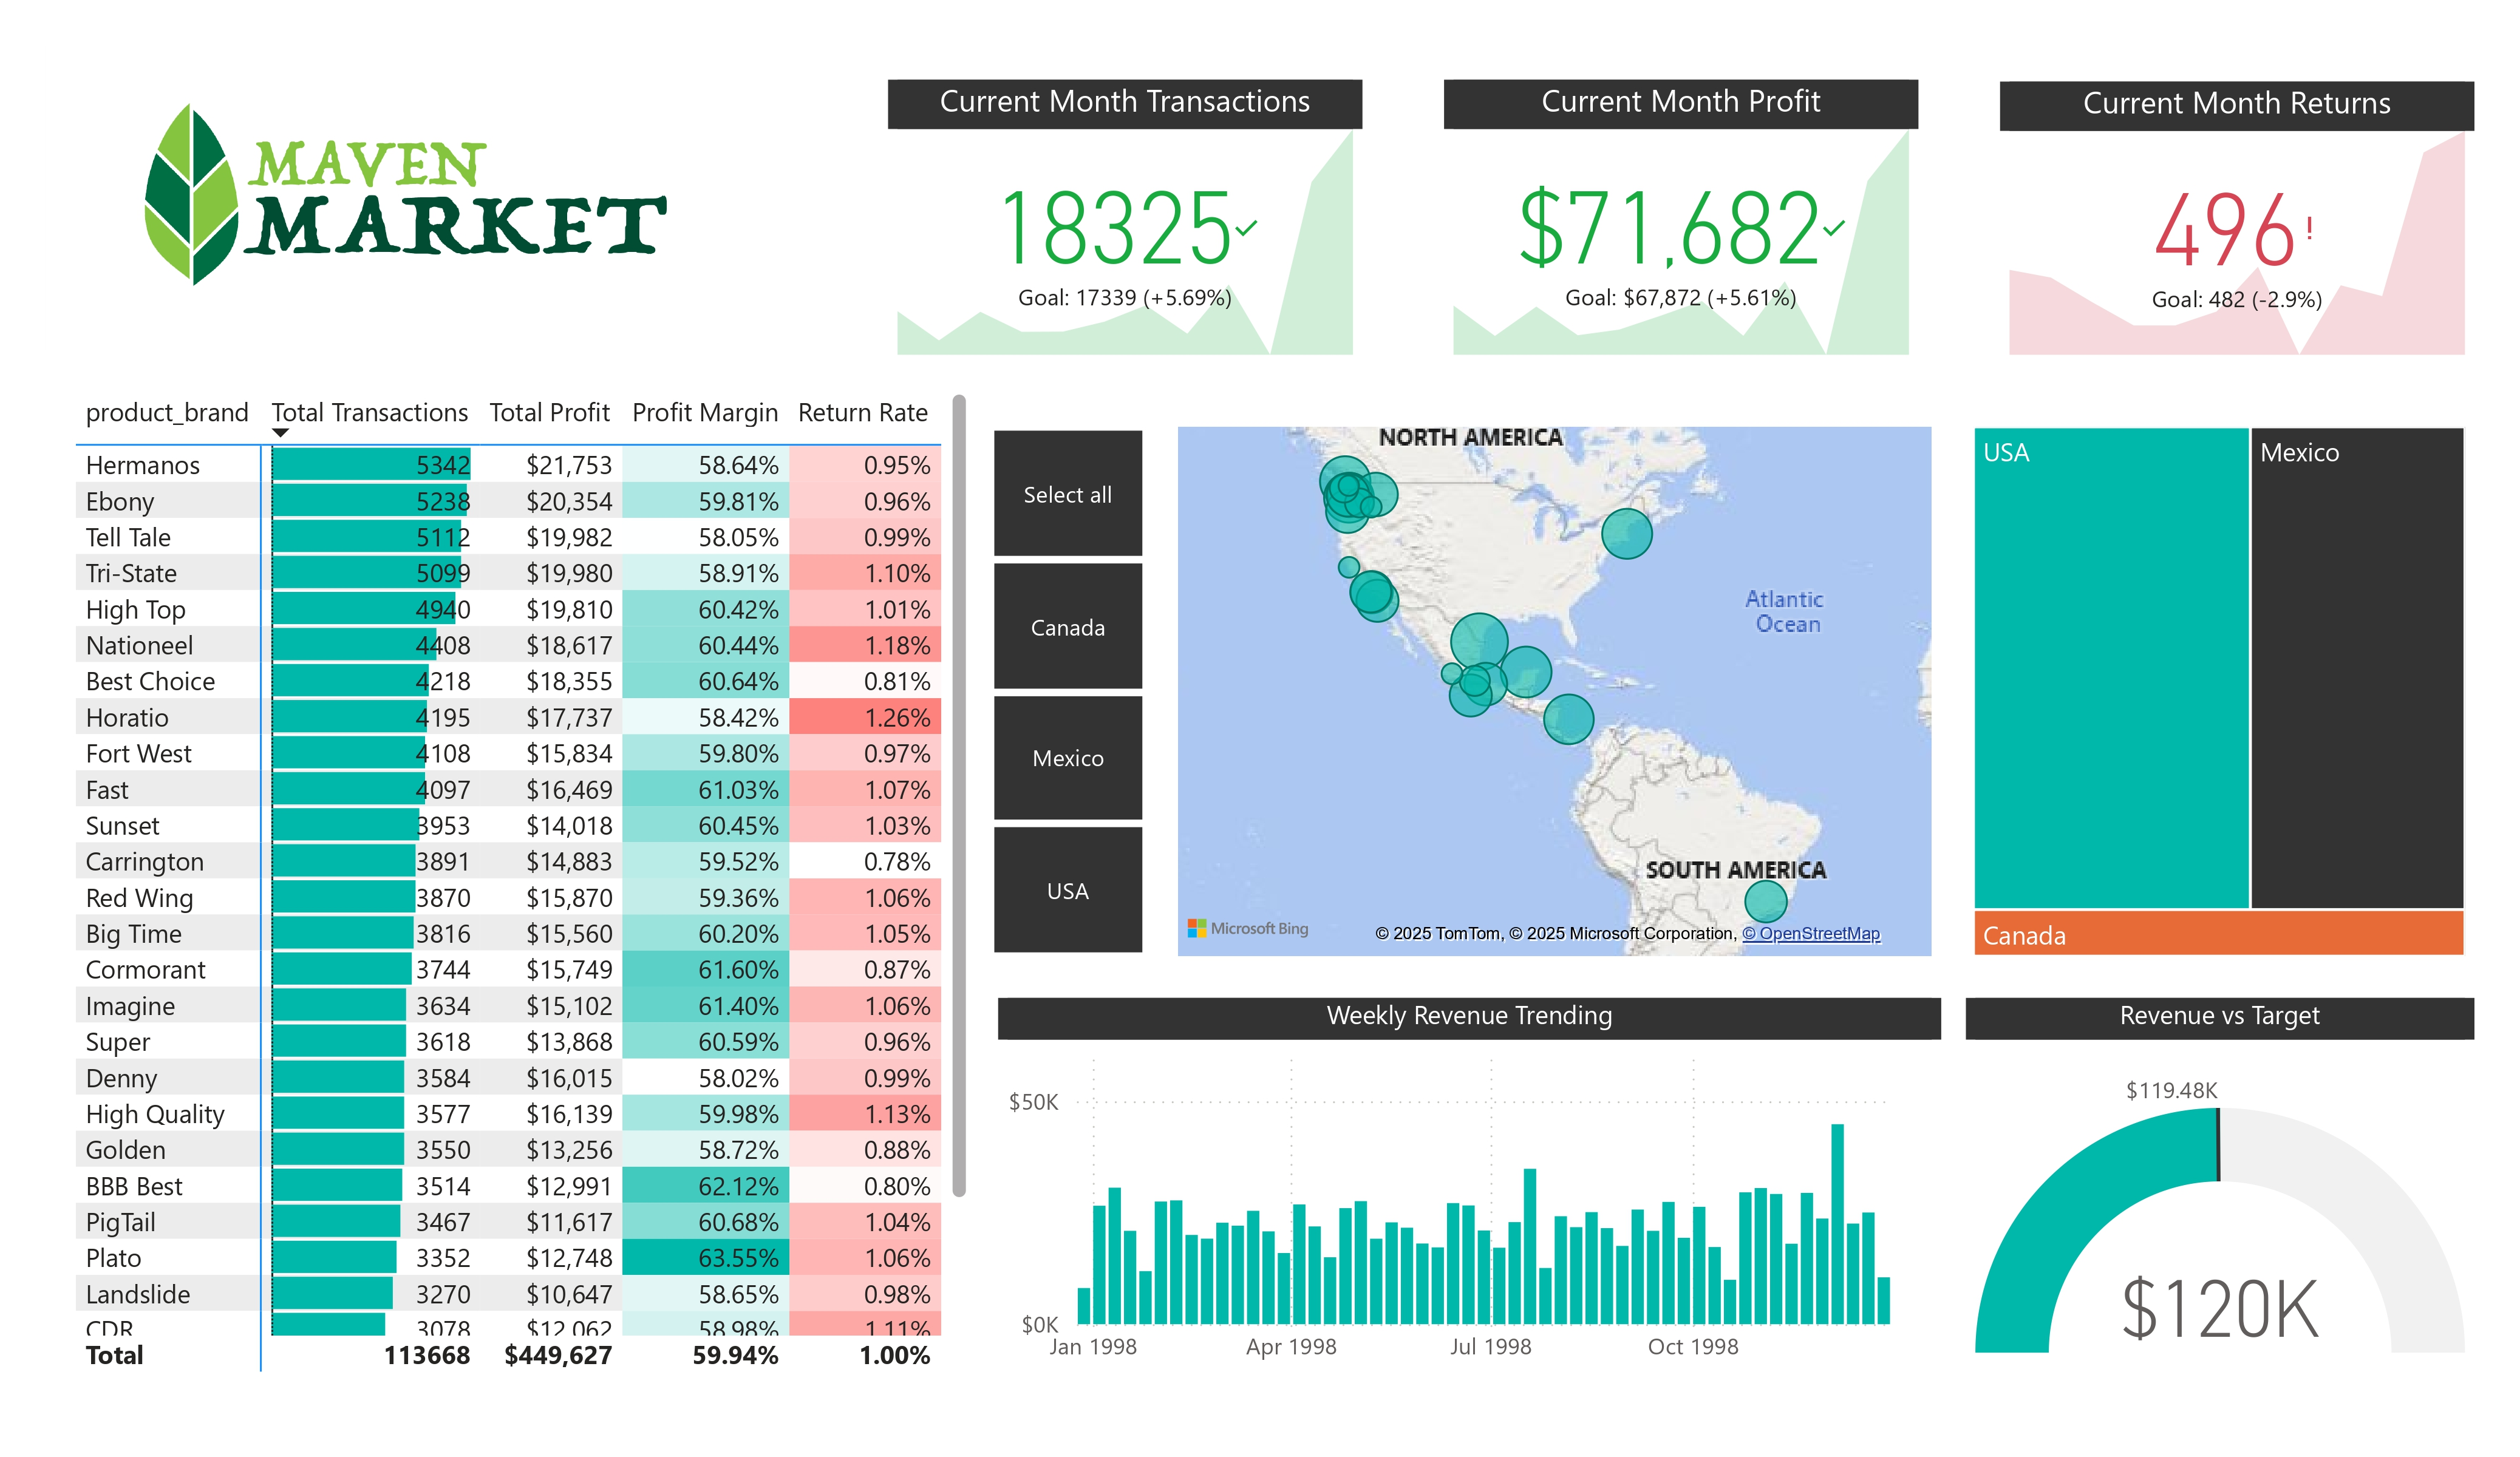

What the dashboard file says about the page in this screenshot:
{"tool":"powerbi","page":{"name":"Topline Performance","canvas":[1280,720],"ordinal":0},"visuals":[{"type":"image","box":[11.4,18.5,354.2,119.5],"z":0},{"type":"pivotTable","fields":{"Rows":["Products.product_brand"],"Values":["Measures Table.Total Transactions","Measures Table.Total Profit","Measures Table.Profit Margin","Measures Table.Return Rate"]},"box":[11.4,177.8,479.4,526.4],"z":1},{"type":"kpi","title":"Current Month Transactions","fields":{"Indicator":["Measures Table.Total Transactions"],"TrendLine":["Calendar.Start of Month"],"Goal":["Measures Table.Last Month Transactions"]},"box":[443.9,18.5,250.4,149.4],"z":2},{"type":"kpi","title":"Current Month Profit","fields":{"TrendLine":["Calendar.Start of Month"],"Indicator":["Measures Table.Total Profit"],"Goal":["Measures Table.Last Month Profit"]},"box":[737.1,18.5,250.4,149.4],"z":3},{"type":"kpi","title":"Current Month Returns","fields":{"TrendLine":["Calendar.Start of Month"],"Indicator":["Measures Table.Total Returns"],"Goal":["Measures Table.Last Month Returns"]},"box":[1029.8,19.2,250.2,148.7],"z":4},{"type":"map","fields":{"Category":["Stores.City"],"Size":["Measures Table.Total Transactions"]},"box":[591.8,196.3,406.9,288.8],"z":5},{"type":"slicer","fields":{"Values":["Stores.Country/Region"]},"box":[473.7,196.3,128,288.8],"z":6},{"type":"treemap","fields":{"Group":["Stores.Country/Region","Stores.State or Province","Stores.City"],"Values":["Measures Table.Total Transactions"]},"box":[1011.1,195.9,269.4,288.6],"z":7},{"type":"clusteredColumnChart","title":"Weekly Revenue Trending","fields":{"Y":["Measures Table.Total Revenue"],"Category":["Calendar.Start of Week"]},"box":[502.2,502.2,496.5,202],"z":8},{"type":"gauge","title":"Revenue vs Target","fields":{"Y":["Measures Table.Total Revenue"],"TargetValue":["Measures Table.Revenue Target"]},"box":[1012,502,268,202],"z":9}]}

Visuals, with their boxes in screenshot pixels (x1, y1, x2, y2):
image: 67, 81, 740, 307
pivotTable - Products.product_brand x Measures Table.Total Transactions: 67, 383, 977, 1382
"Current Month Transactions" kpi: 888, 81, 1363, 364
"Current Month Profit" kpi: 1444, 81, 1919, 364
"Current Month Returns" kpi: 2000, 82, 2474, 364
map - Stores.City x Measures Table.Total Transactions: 1168, 418, 1941, 966
slicer - Stores.Country/Region: 944, 418, 1187, 966
treemap - Stores.Country/Region x Stores.State or Province: 1964, 417, 2474, 965
"Weekly Revenue Trending" clusteredColumnChart: 998, 998, 1941, 1382
"Revenue vs Target" gauge: 1966, 998, 2474, 1381
